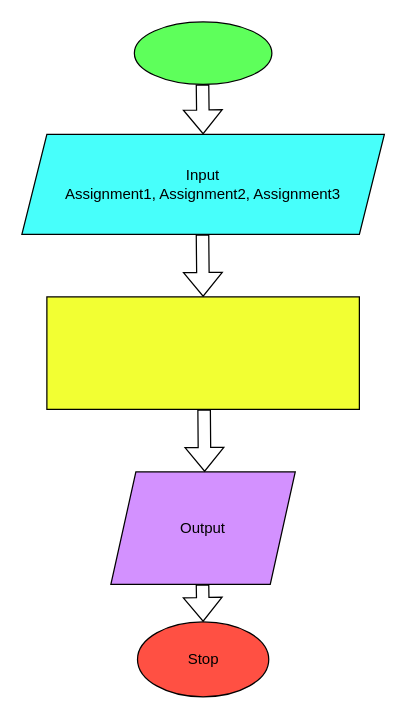
This 406x719 diagram has some shape labels left out. Each missing label, with the centre of its shape:
Average = (Assignment1 + Assignment2 Assignment3) / 3: the point at 202,352
Start: the point at 202,52
